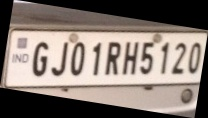character: (31, 41, 49, 76), (51, 41, 68, 76), (104, 41, 121, 75), (122, 41, 139, 75), (69, 41, 85, 76), (172, 41, 186, 75), (139, 41, 153, 74), (188, 41, 200, 74), (91, 41, 101, 75), (159, 41, 168, 73)
